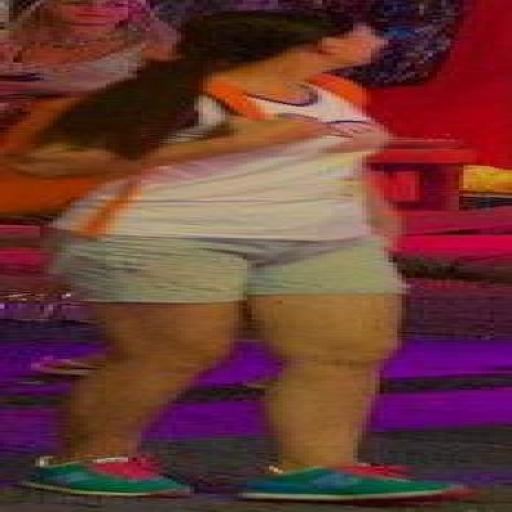person: (18, 12, 467, 502), (0, 0, 176, 129)
